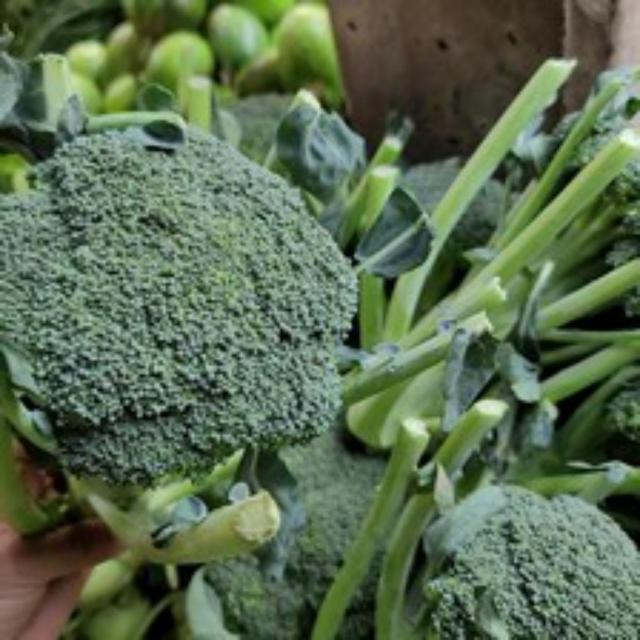broccoli: (0, 115, 358, 521)
